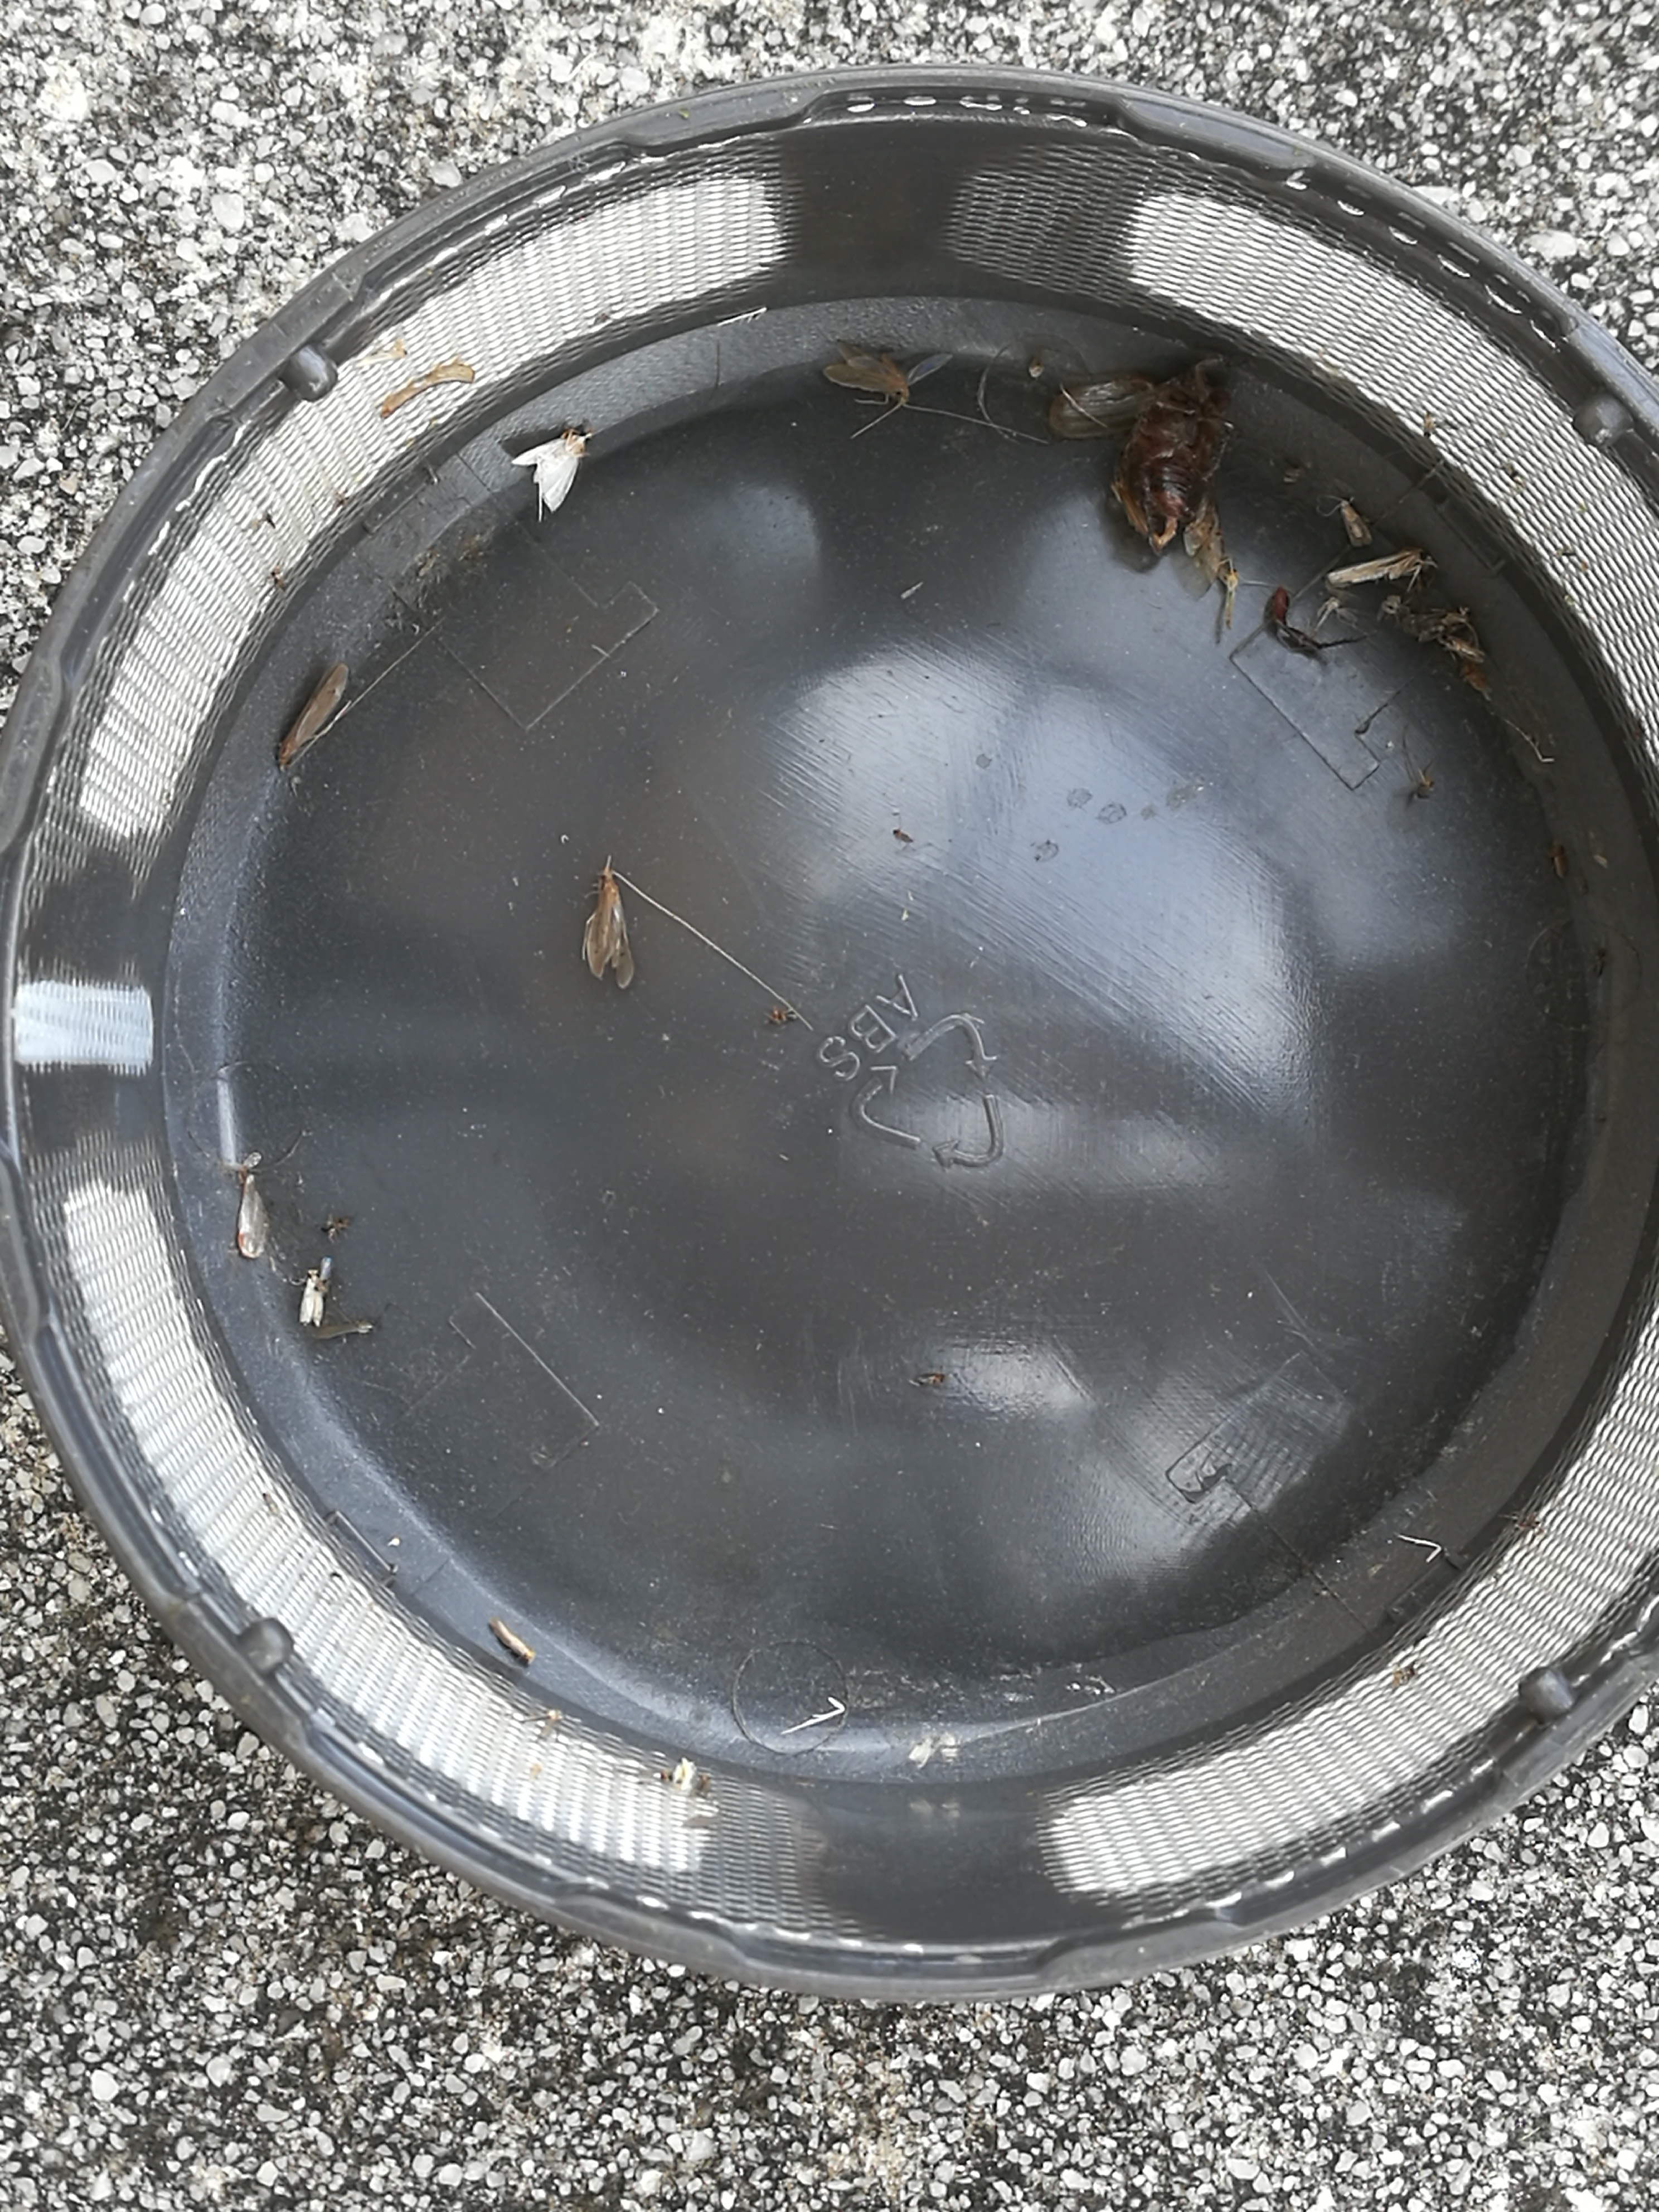beetle: (1122, 376, 1223, 535)
mosquito: (277, 667, 345, 766), (1326, 552, 1425, 587), (488, 1618, 532, 1662), (1199, 489, 1222, 571), (1401, 613, 1466, 641), (298, 1268, 324, 1327), (1342, 500, 1371, 547)
moth: (823, 340, 951, 406), (512, 428, 584, 512), (584, 871, 633, 988)
